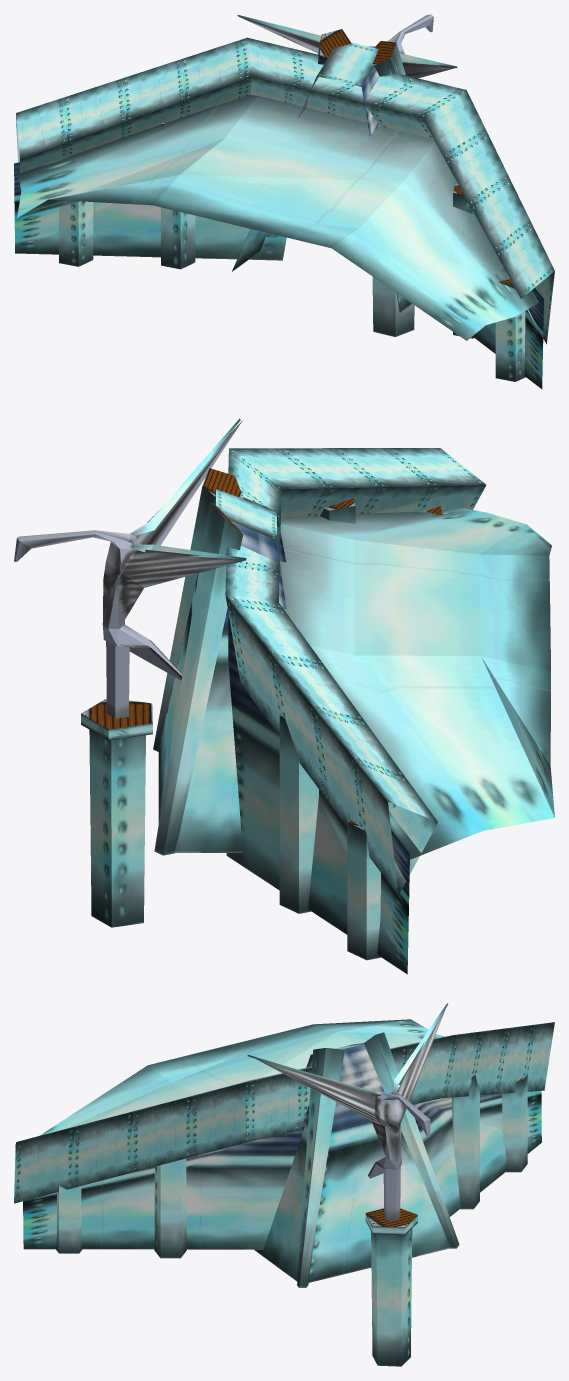
File: Polizei_GerichtsaalPult_2563.glb
The picture shows the model from 3 angles, top to bottom: view 1: azimuth 30°, elevation 25°; view 2: azimuth 150°, elevation 25°; view 3: azimuth 270°, elevation 25°; orthographic projection. The views are drawn at different scales.
Visible parts, largest first — view 1: pPlaneShape75, pTorusShape1, pPlaneShape71, pCylinderShape148, pCylinderShape149, pCylinderShape147, pPlaneShape72, pPlaneShape70, pCylinderShape31, pSphereShape10, pCylinderShape153, pPlaneShape68 (+2 smaller); view 2: pPlaneShape75, pTorusShape1, pPlaneShape71, pCylinderShape31, pCylinderShape152, pPlaneShape68, pSphereShape10, pCylinderShape147, pCylinderShape148, pCylinderShape153, pCylinderShape32, pPlaneShape67 (+3 smaller); view 3: pTorusShape1, pPlaneShape72, pPlaneShape67, pPlaneShape75, pPlaneShape71, pCylinderShape31, pSphereShape10, pCylinderShape153, pPlaneShape69, pCylinderShape152, pCylinderShape150, pCylinderShape147 (+5 smaller).
Boxes of the visible parts, x1=… form: pPlaneShape75: x1=17, y1=95, x2=538, y2=340; pTorusShape1: x1=16, y1=37, x2=554, y2=344; pPlaneShape71: x1=14, y1=162, x2=286, y2=260; pCylinderShape148: x1=59, y1=201, x2=93, y2=266; pCylinderShape149: x1=495, y1=279, x2=525, y2=381; pCylinderShape147: x1=161, y1=122, x2=195, y2=269; pPlaneShape72: x1=473, y1=288, x2=543, y2=389; pPlaneShape70: x1=317, y1=42, x2=378, y2=86; pCylinderShape31: x1=372, y1=277, x2=414, y2=336; pSphereShape10: x1=240, y1=14, x2=454, y2=78; pCylinderShape153: x1=372, y1=40, x2=405, y2=76; pPlaneShape68: x1=232, y1=76, x2=318, y2=271; pPlaneShape75: x1=280, y1=508, x2=554, y2=861; pTorusShape1: x1=225, y1=448, x2=486, y2=895; pPlaneShape71: x1=226, y1=617, x2=409, y2=974; pCylinderShape31: x1=89, y1=729, x2=145, y2=927; pCylinderShape152: x1=154, y1=502, x2=243, y2=855; pPlaneShape68: x1=159, y1=520, x2=286, y2=852; pSphereShape10: x1=14, y1=420, x2=245, y2=680; pCylinderShape147: x1=279, y1=715, x2=318, y2=913; pCylinderShape148: x1=347, y1=820, x2=381, y2=960; pCylinderShape153: x1=153, y1=468, x2=243, y2=751; pCylinderShape32: x1=81, y1=698, x2=152, y2=740; pPlaneShape67: x1=158, y1=491, x2=215, y2=823; pTorusShape1: x1=14, y1=1022, x2=554, y2=1203; pPlaneShape72: x1=23, y1=1106, x2=309, y2=1249; pPlaneShape67: x1=308, y1=1044, x2=450, y2=1282; pPlaneShape75: x1=39, y1=1019, x2=444, y2=1135; pPlaneShape71: x1=413, y1=1091, x2=541, y2=1216; pCylinderShape31: x1=371, y1=1228, x2=412, y2=1366; pSphereShape10: x1=248, y1=1009, x2=445, y2=1178; pCylinderShape153: x1=297, y1=1048, x2=344, y2=1287; pPlaneShape69: x1=254, y1=1054, x2=312, y2=1281; pCylinderShape152: x1=362, y1=1032, x2=459, y2=1248; pCylinderShape150: x1=154, y1=1158, x2=186, y2=1258; pCylinderShape147: x1=452, y1=1075, x2=479, y2=1209.
Bounding box in the file's own units: 0.768 × 0.5744 × 0.9406.
Materials: 20 (20 with a texture image).
